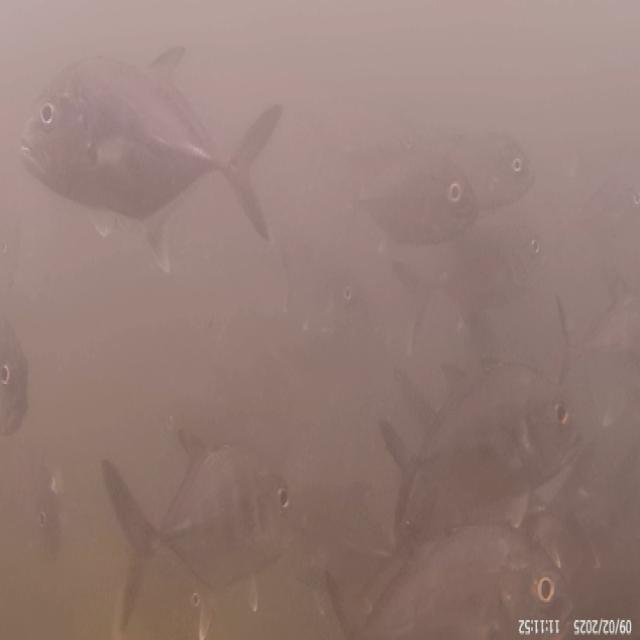ikan: (26, 41, 274, 232), (97, 408, 311, 603), (386, 344, 578, 492), (372, 515, 570, 616), (334, 134, 491, 255)
